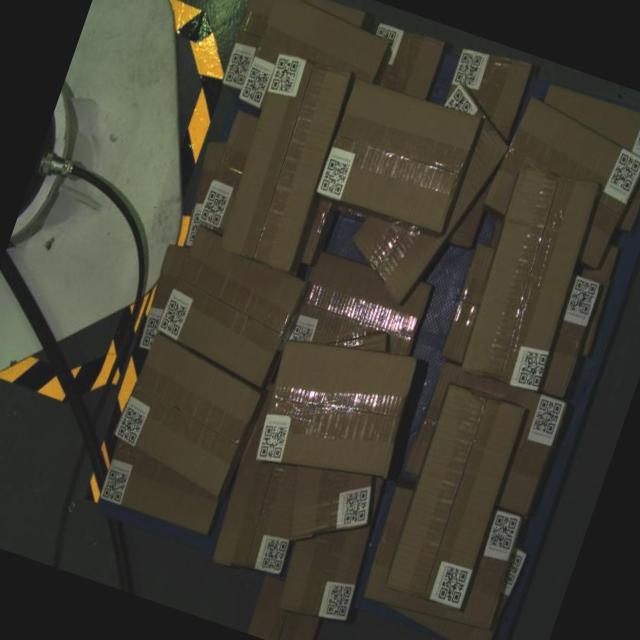box: (452, 158, 608, 396), (380, 382, 529, 612), (244, 314, 425, 502), (212, 48, 356, 272), (105, 330, 268, 500), (148, 223, 310, 390), (314, 74, 480, 235)
